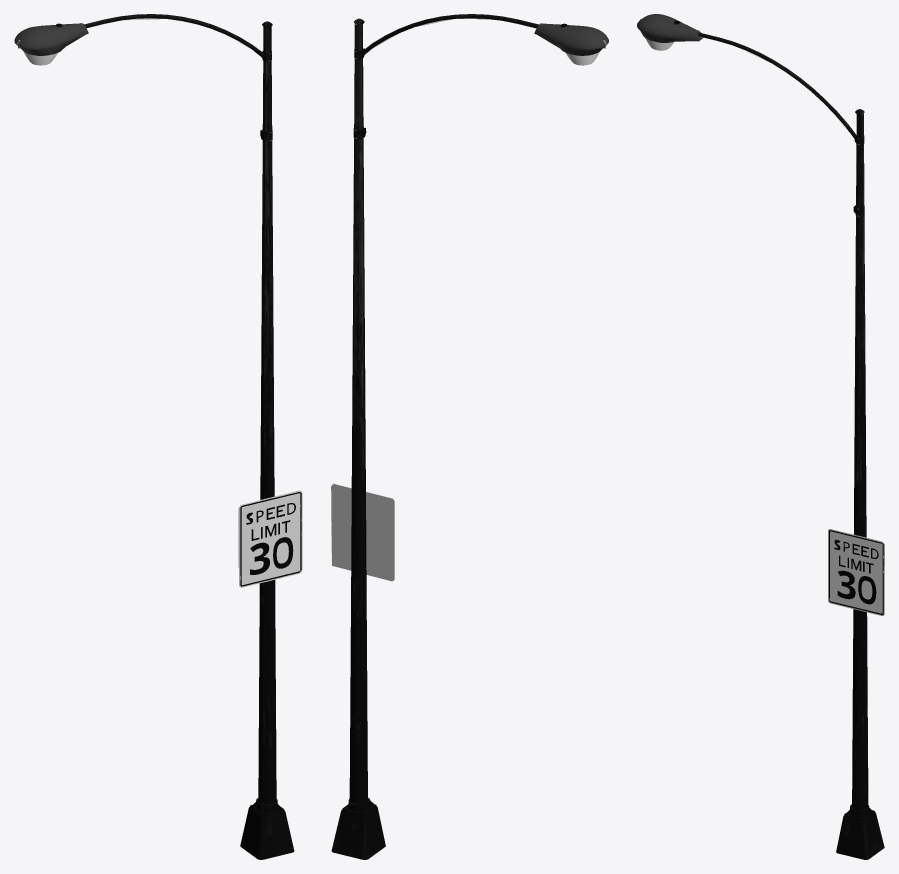
The model's file is street-light-cobra.glb.
3 renders of one model, left to right at view 1: azimuth 30°, elevation 25°; view 2: azimuth 150°, elevation 25°; view 3: azimuth 330°, elevation 25°, orthographic. The views are drawn at different scales.
Parts seen in each view (by area): view 1: Material2 (×4), Material3; view 2: Material2 (×3), Material3; view 3: Material2 (×4), Material3.
Part boxes in pixels (x1=…): Material2 (×4): x1=14, y1=21, x2=302, y2=859; Material3: x1=84, y1=14, x2=272, y2=141; Material2 (×3): x1=331, y1=18, x2=608, y2=859; Material3: x1=353, y1=14, x2=538, y2=139; Material2 (×4): x1=637, y1=14, x2=884, y2=859; Material3: x1=698, y1=32, x2=864, y2=216.
Size of the model in its own units: 128 by 383 by 18.05.
26 materials, 8 textured.
